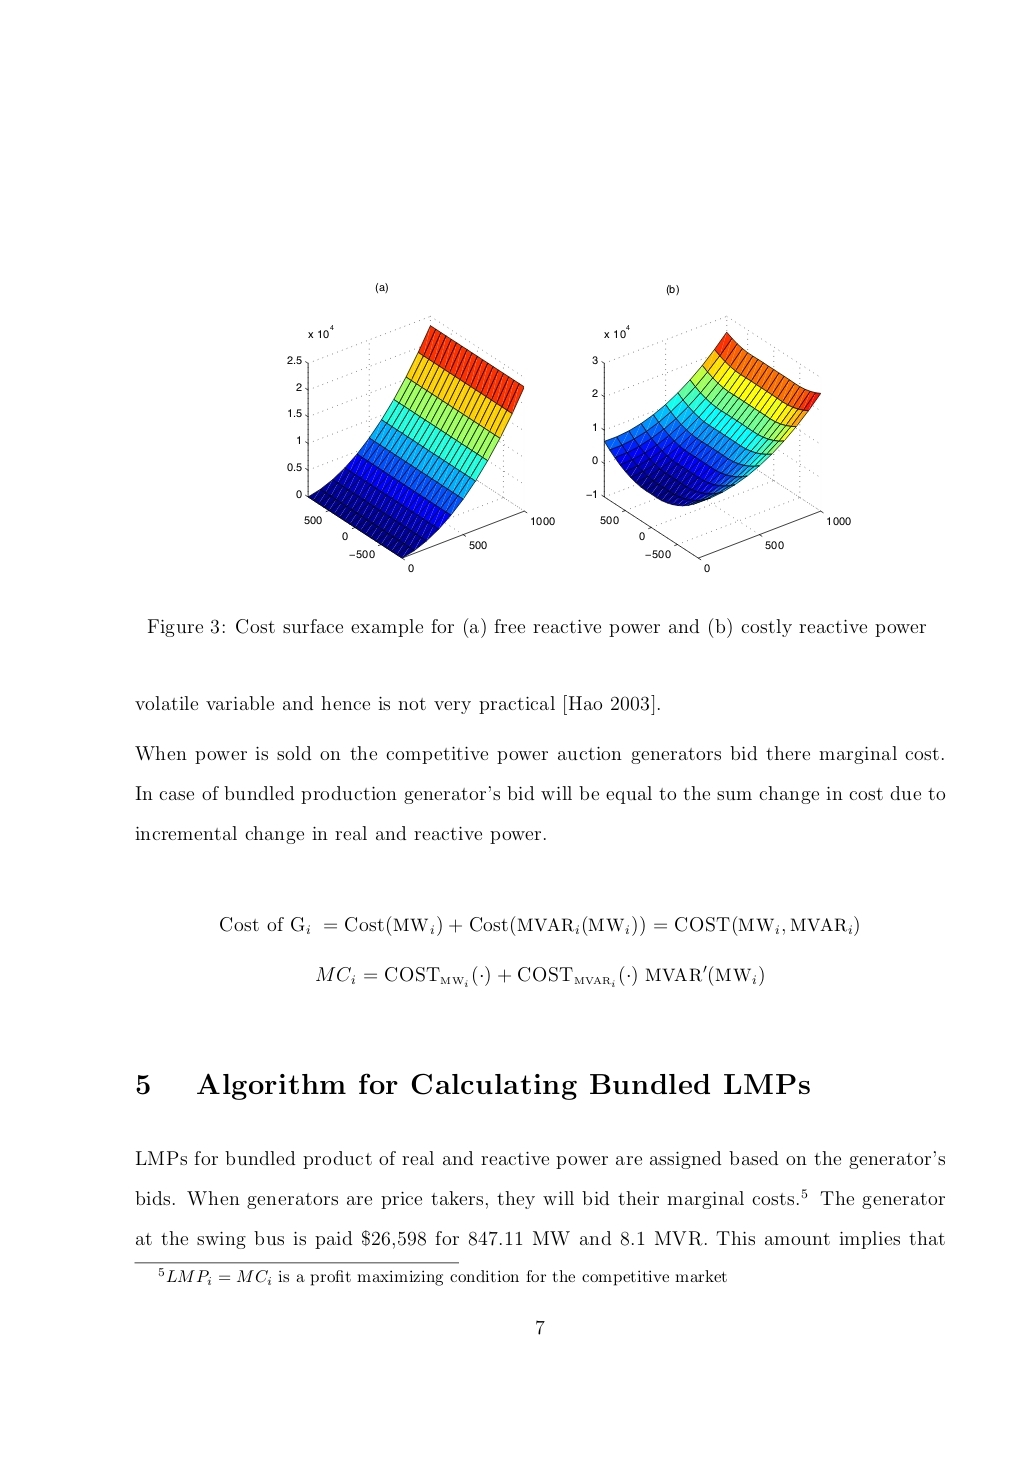figure: (287, 316, 555, 572), (586, 315, 850, 572)
formula: (220, 915, 858, 936), (316, 964, 763, 987)
